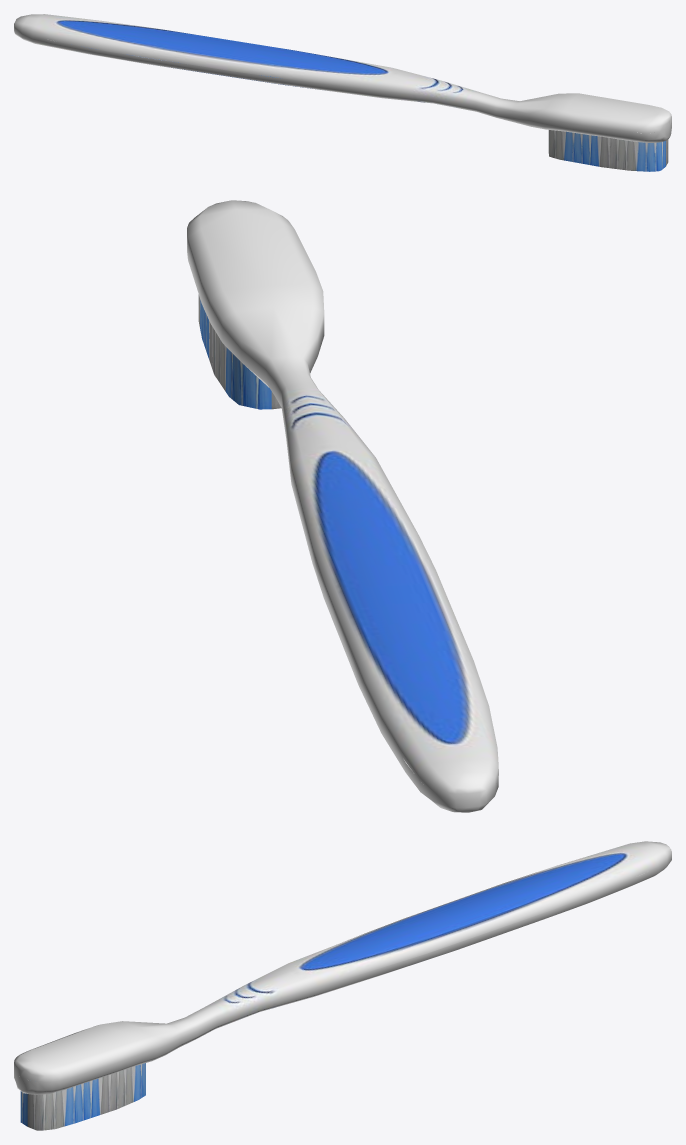
Rendered from shetka.fbx.
3 renders of one model, top to bottom at view 1: azimuth 30°, elevation 25°; view 2: azimuth 150°, elevation 25°; view 3: azimuth 270°, elevation 25°, orthographic. The views are drawn at different scales.
Parts seen in each view (by area): view 1: Toothbrush:toothbrush; view 2: Toothbrush:toothbrush; view 3: Toothbrush:toothbrush.
Part boxes in pixels (<box>): Toothbrush:toothbrush: <box>14,14,671,171</box>; Toothbrush:toothbrush: <box>187,200,498,812</box>; Toothbrush:toothbrush: <box>14,841,671,1130</box>.
Bounding box in the file's own units: 10.31 × 1.28 × 12.2.
